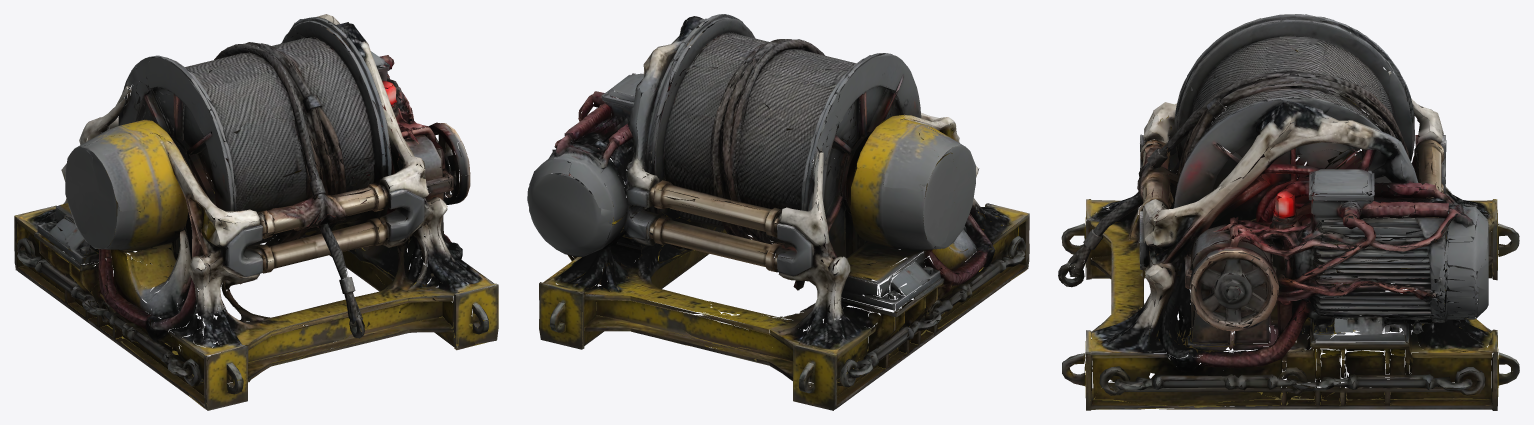
Rendered from chasm_cable_traversal_winch.glb.
3 views of the same model, side by side, from view 1: azimuth 30°, elevation 25°; view 2: azimuth 150°, elevation 25°; view 3: azimuth 270°, elevation 25° (orthographic). The views are drawn at different scales.
Visible parts, largest first — view 1: node_0; view 2: node_0; view 3: node_0.
Part boxes in pixels (x1,y1,x2,y2): node_0: (14,14,498,410); node_0: (527,14,1029,410); node_0: (1058,14,1519,410).
Size of the model in its own units: 0.7922 by 0.5836 by 0.8719.
1 material, 1 textured.
